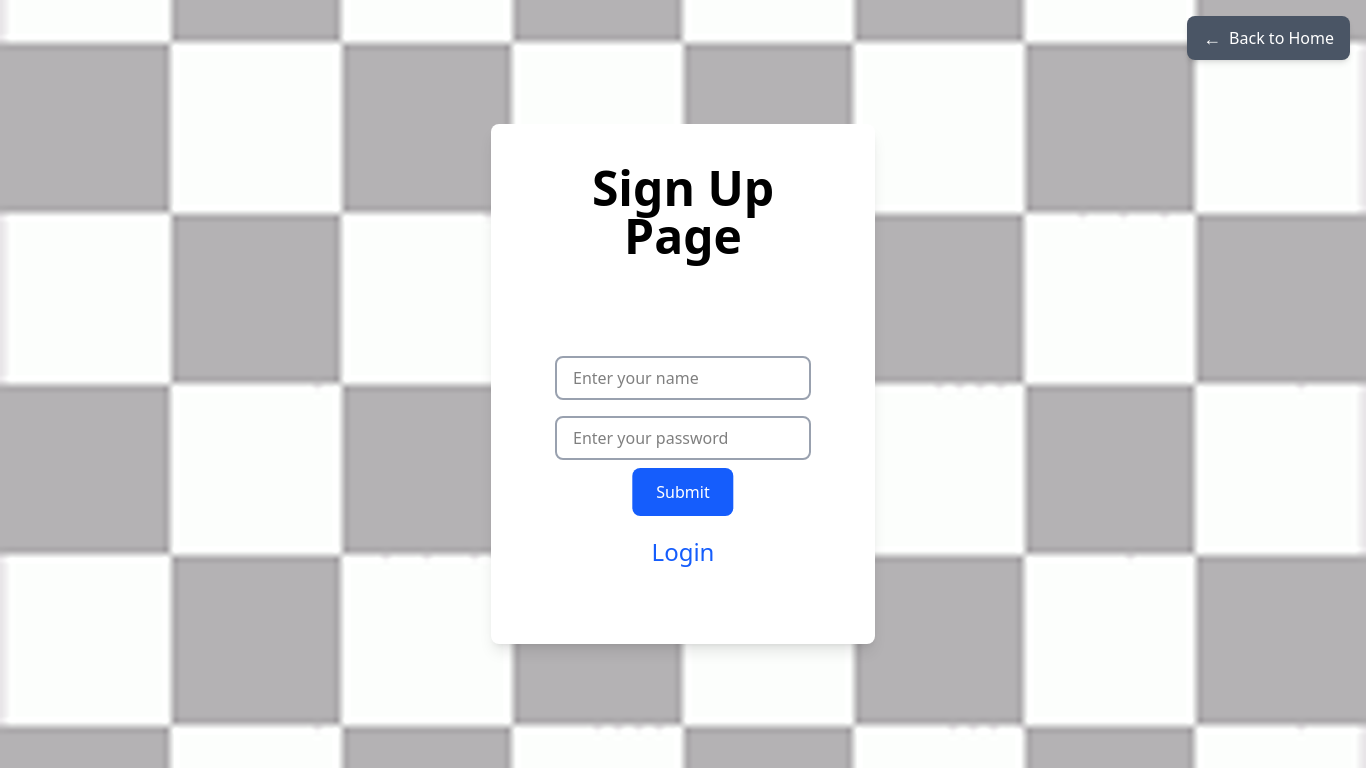
Scenario: SignUp validation › shows error when name is empty
Click the button "Submit" at (683, 492), box [632,468,734,516]
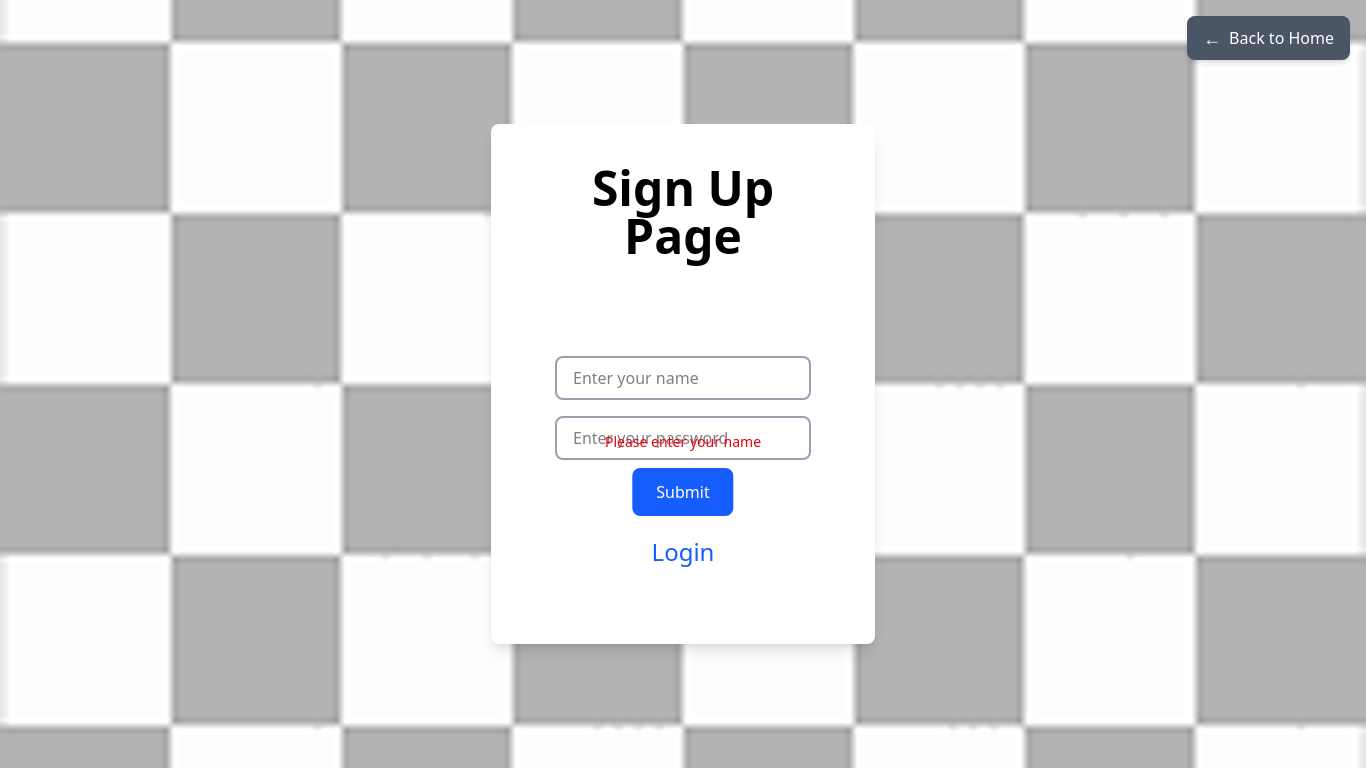
Expected: the text "Please enter your name" is shown, [605,432,761,452]
